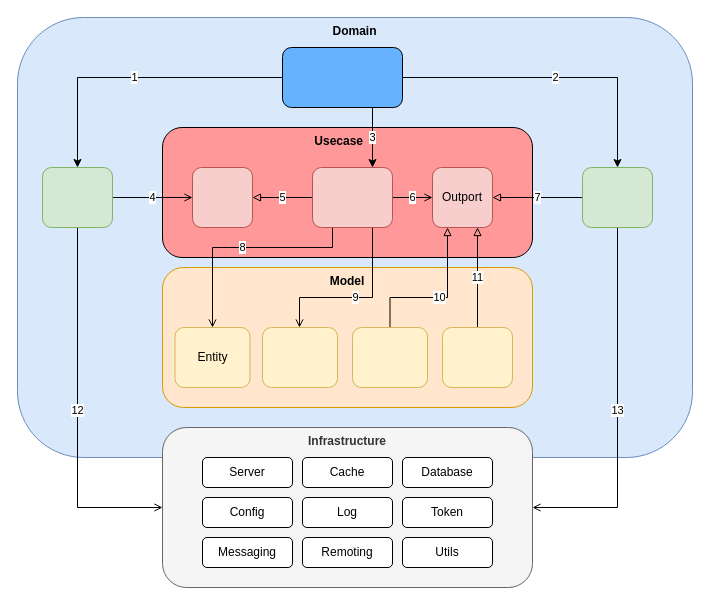
The diagram is 710 pixels wide and 605 high, and some of its shapes have lost their labels. The centre of each missing label's shape, as x and y in pixels:
"Application" goes at (342,77).
"Controller" goes at (77,197).
"Gateway" goes at (617,197).
"Inport" goes at (222,197).
"Interactor" goes at (352,197).
"Repository" goes at (477,357).
"Service" goes at (390,357).
"VO" goes at (300,357).
